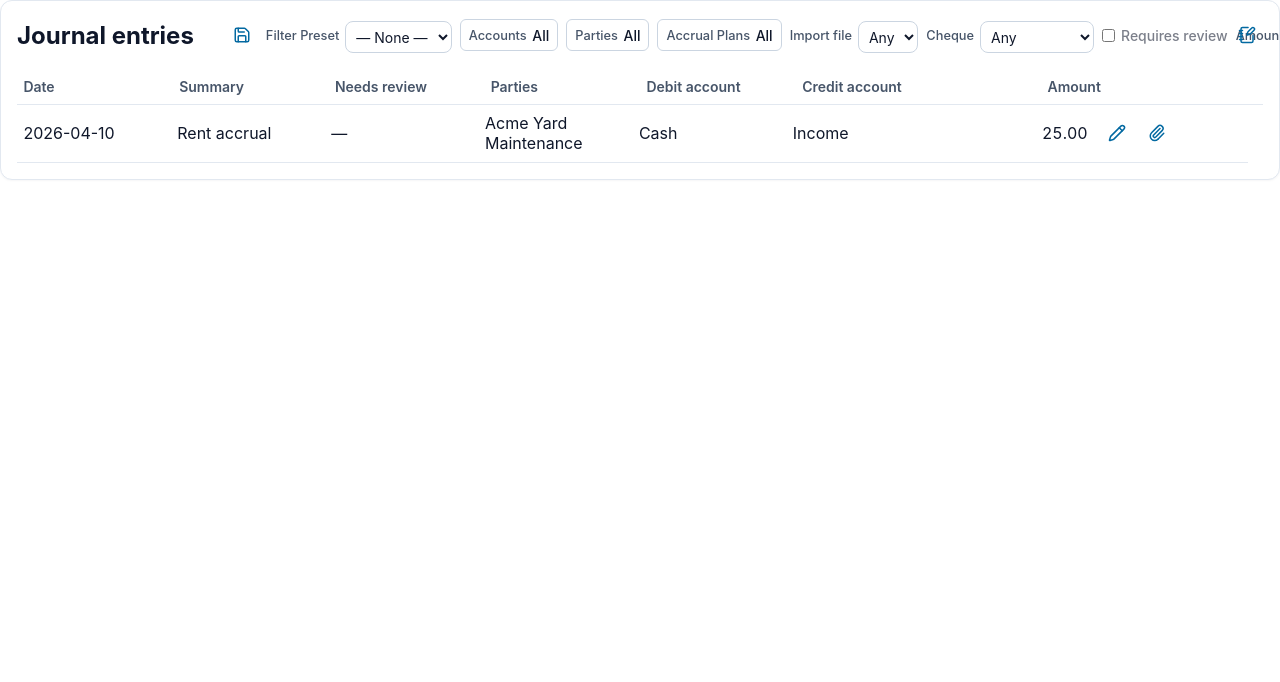
Test: JournalEntriesPanel › opens attachments from journal entry details header
Step 1. Click the button named "Edit journal entry: Rent accrual" → click(1116, 133), box [1100,117,1132,149]
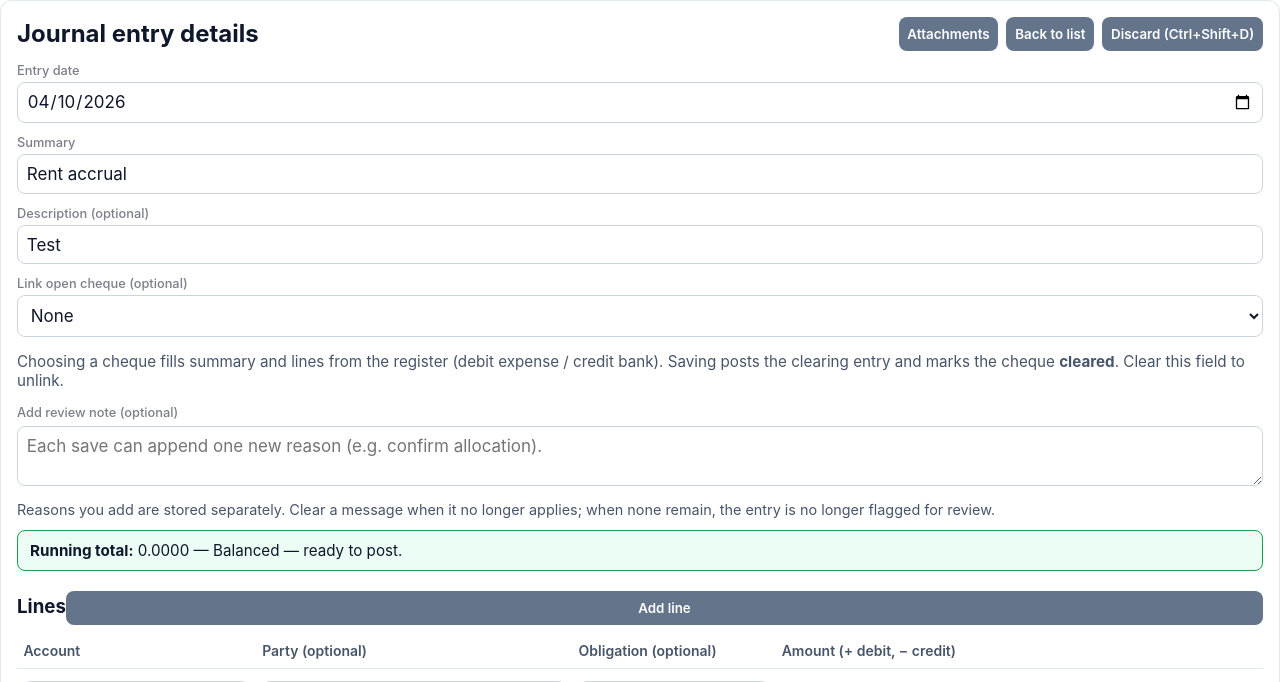
Step 2. Click the button "Attachments" → click(949, 34), box [899,17,998,51]
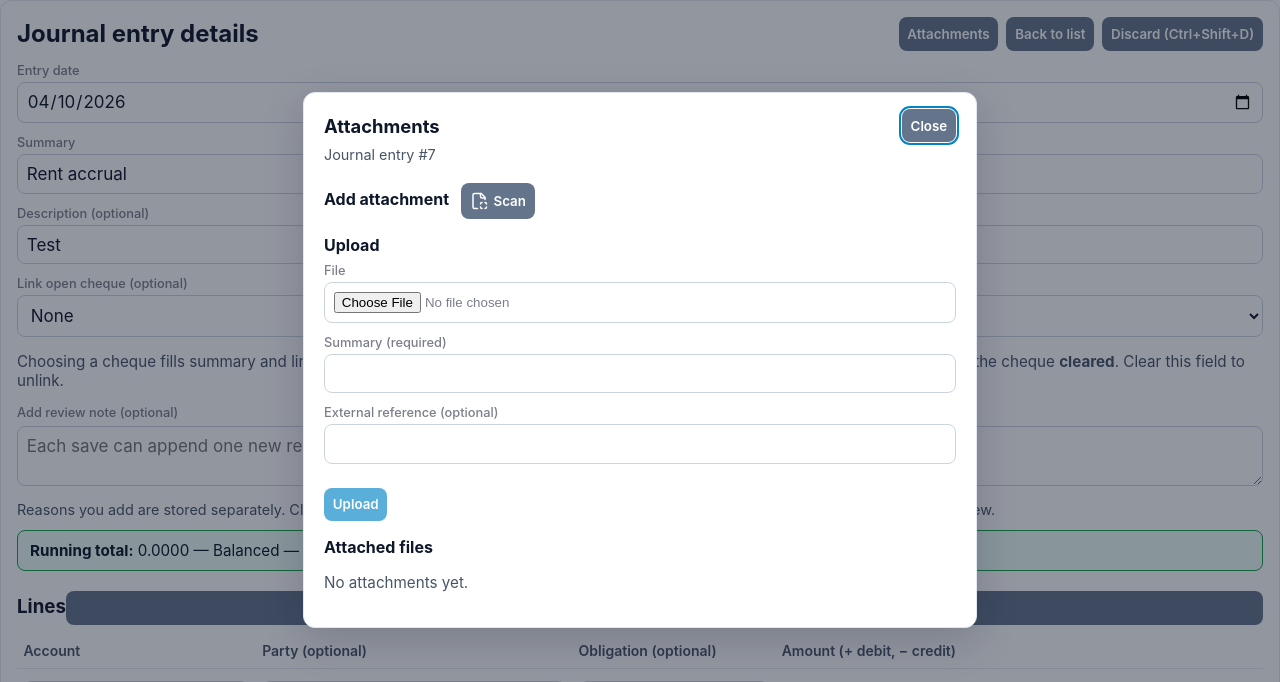
Expected: the heading "Attachments" is shown, [324,115,440,137]
Expected: the text "No attachments yet." is shown, [324,573,468,592]
